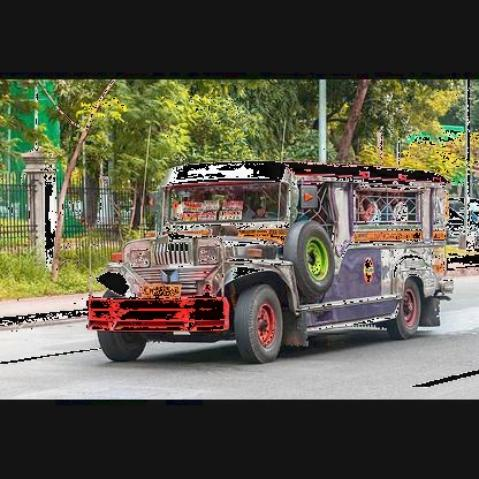jeepney: (73, 142, 473, 379)
